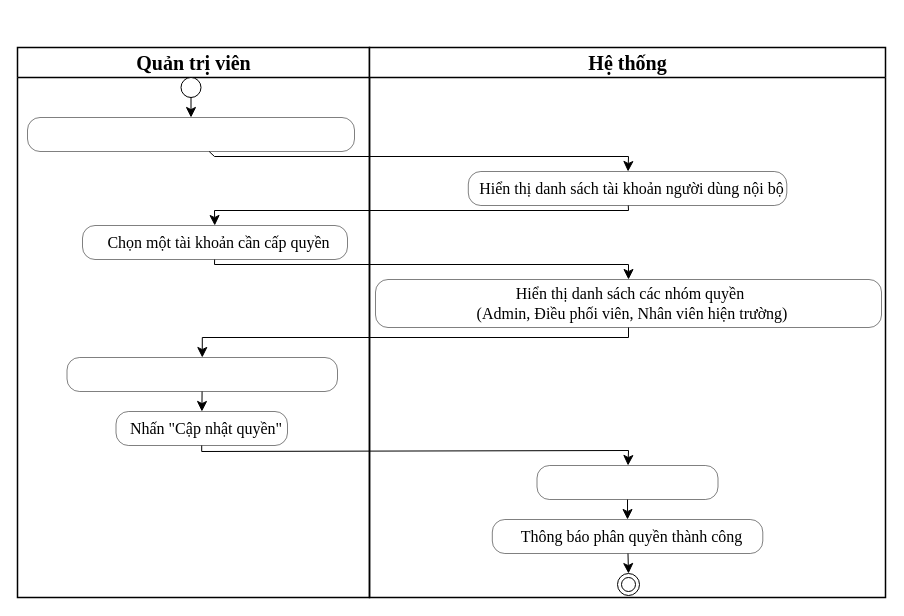
Some shapes in this 904 by 616 pixel diagram are drawn without their labels. The box of each missing label's shape, as (x1, y1, x2, y2) in pixels:
Chọn chức năng "Quản lý phân quyền tài khoản": (27, 117, 354, 151)
Cập nhật Role vào CSDL: (536, 465, 718, 499)
Tick chọn vai trò/phân quyền tương ứng: (66, 357, 337, 391)
